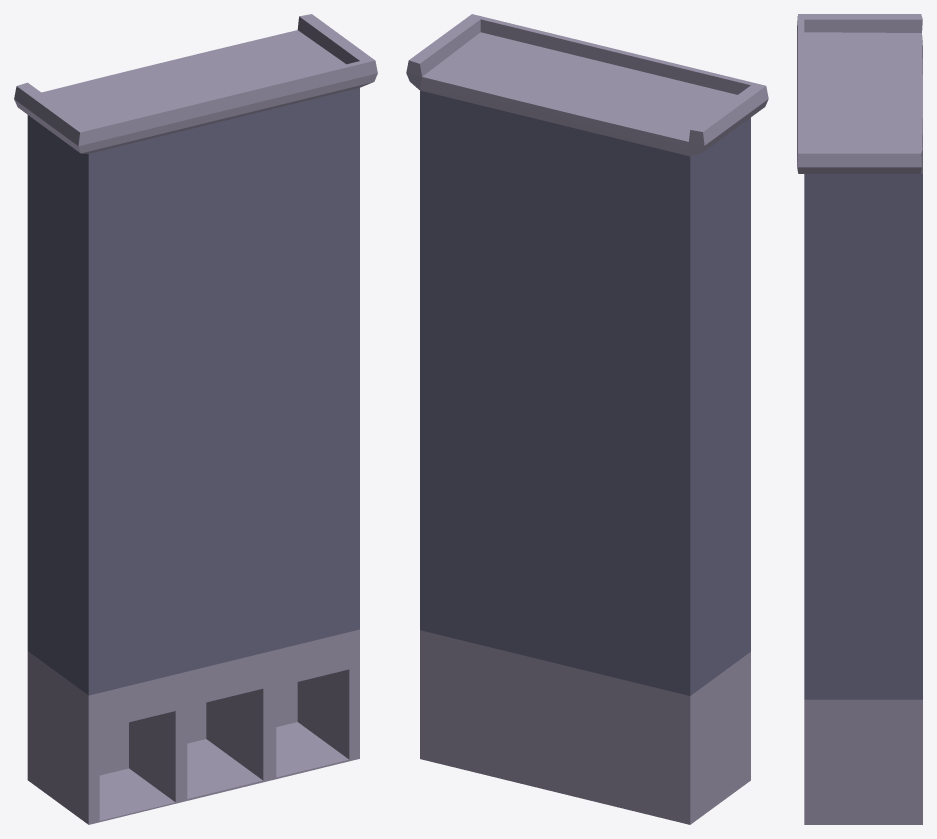
Rendered from building_I_6floors.fbx.
The picture shows the model from 3 angles, left to right: view 1: azimuth 30°, elevation 25°; view 2: azimuth 150°, elevation 25°; view 3: azimuth 270°, elevation 25°; orthographic projection. The views are drawn at different scales.
Parts seen in each view (by area): view 1: building_I_6floors; view 2: building_I_6floors; view 3: building_I_6floors.
Boxes of the visible parts, x1=… form: building_I_6floors: x1=14, y1=14, x2=377, y2=824; building_I_6floors: x1=406, y1=14, x2=768, y2=824; building_I_6floors: x1=797, y1=14, x2=922, y2=824.
Size of the model in its own units: 8.89 by 19.8 by 3.33.
